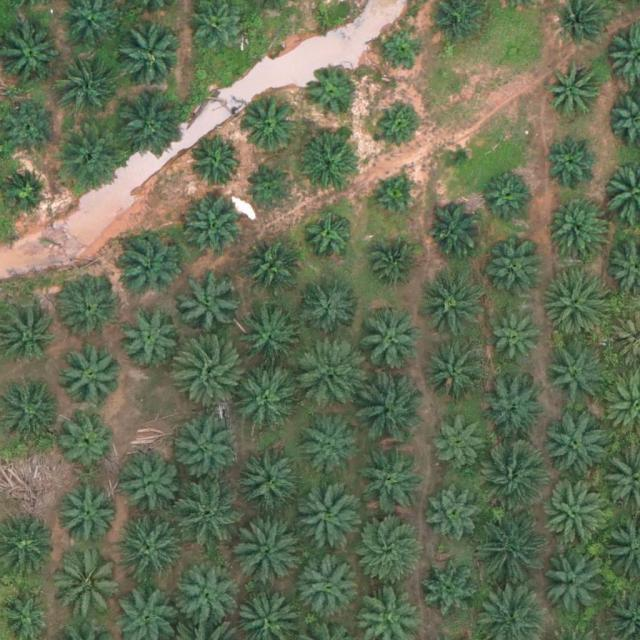Healthy: (55, 127, 126, 198), (111, 15, 182, 86), (351, 511, 422, 582), (114, 92, 184, 163), (544, 269, 614, 340), (477, 438, 547, 509), (475, 512, 545, 583), (354, 373, 424, 444), (293, 484, 363, 555), (294, 338, 364, 409), (174, 480, 244, 551), (112, 512, 183, 582), (56, 551, 126, 622), (52, 53, 122, 123), (234, 515, 304, 585), (171, 412, 241, 482), (175, 337, 245, 407), (547, 198, 610, 261), (485, 241, 548, 304), (359, 311, 422, 374), (179, 272, 242, 335), (115, 234, 178, 297), (482, 381, 545, 444), (297, 412, 360, 475), (234, 368, 297, 431), (59, 484, 122, 547), (296, 136, 358, 199), (181, 200, 243, 263), (58, 274, 120, 337), (546, 345, 608, 408), (545, 419, 607, 482), (542, 553, 605, 615), (418, 556, 480, 619), (358, 450, 420, 513), (298, 555, 360, 618), (299, 275, 361, 338), (240, 310, 303, 372), (237, 451, 299, 514), (177, 566, 239, 629), (119, 454, 181, 517), (61, 343, 123, 406), (422, 275, 484, 337), (118, 306, 180, 368), (546, 487, 608, 549), (426, 481, 488, 543), (424, 340, 486, 402), (2, 100, 57, 155), (243, 241, 298, 296), (549, 64, 604, 119), (546, 136, 601, 191), (488, 316, 543, 371), (429, 202, 484, 257), (240, 97, 295, 152), (189, 136, 244, 191), (434, 416, 489, 471), (307, 66, 361, 121), (366, 242, 420, 297), (481, 165, 535, 220), (61, 413, 115, 468)
Small: (305, 212, 352, 260), (249, 169, 296, 216), (371, 175, 418, 222), (375, 102, 422, 149), (382, 27, 429, 74), (445, 140, 476, 171)
